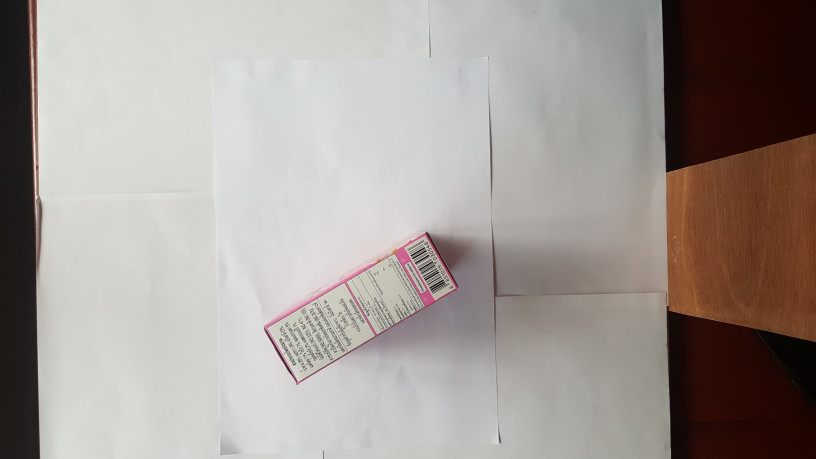collon-strawberry: (263, 232, 463, 388)
